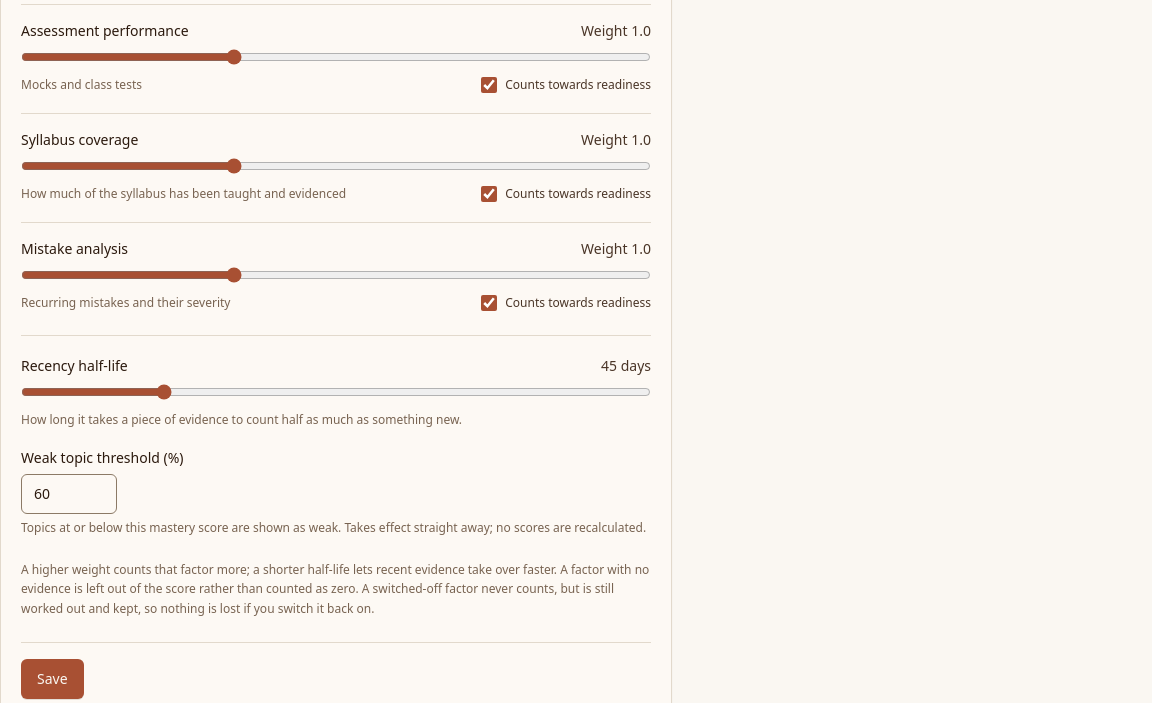
a failed save's message does not follow the tutor to another scope
(page scrolled)
Step 1. Click the button "Save" → (52, 679), box [21, 659, 84, 699]
(page scrolled)
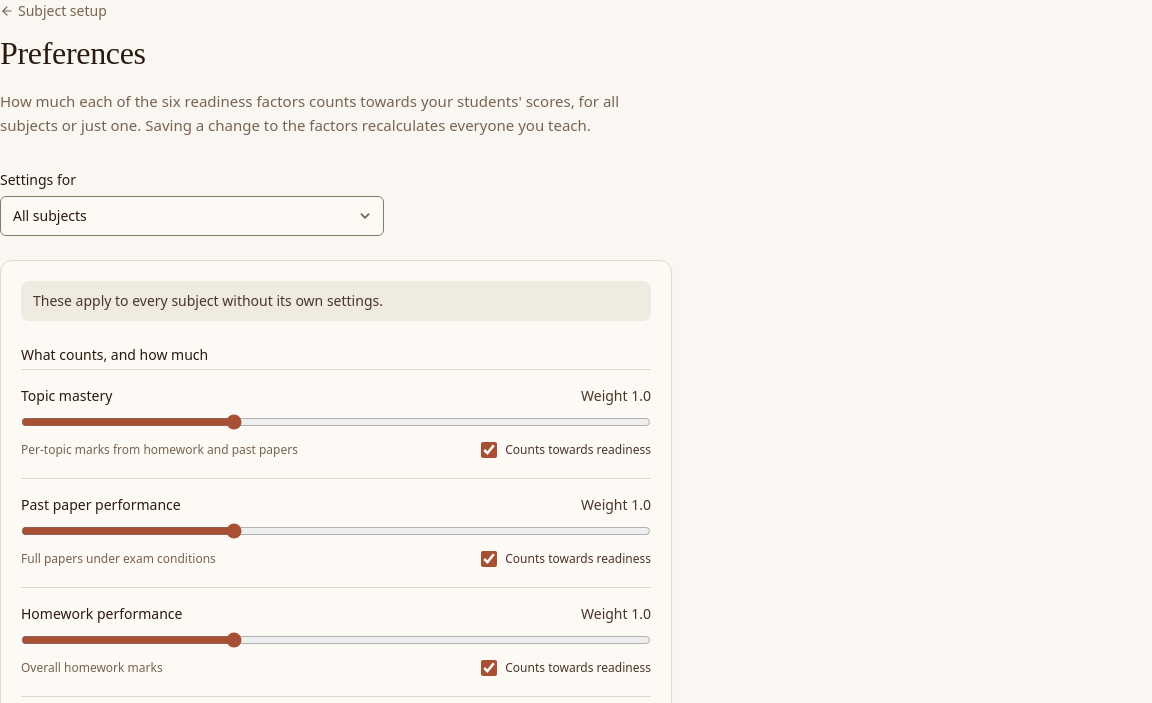
Step 2. Select "Chemistry (Edexcel IGCSE 4CH1)" in the dropdown labelled "Settings for" → (192, 216), box [0, 196, 384, 236]
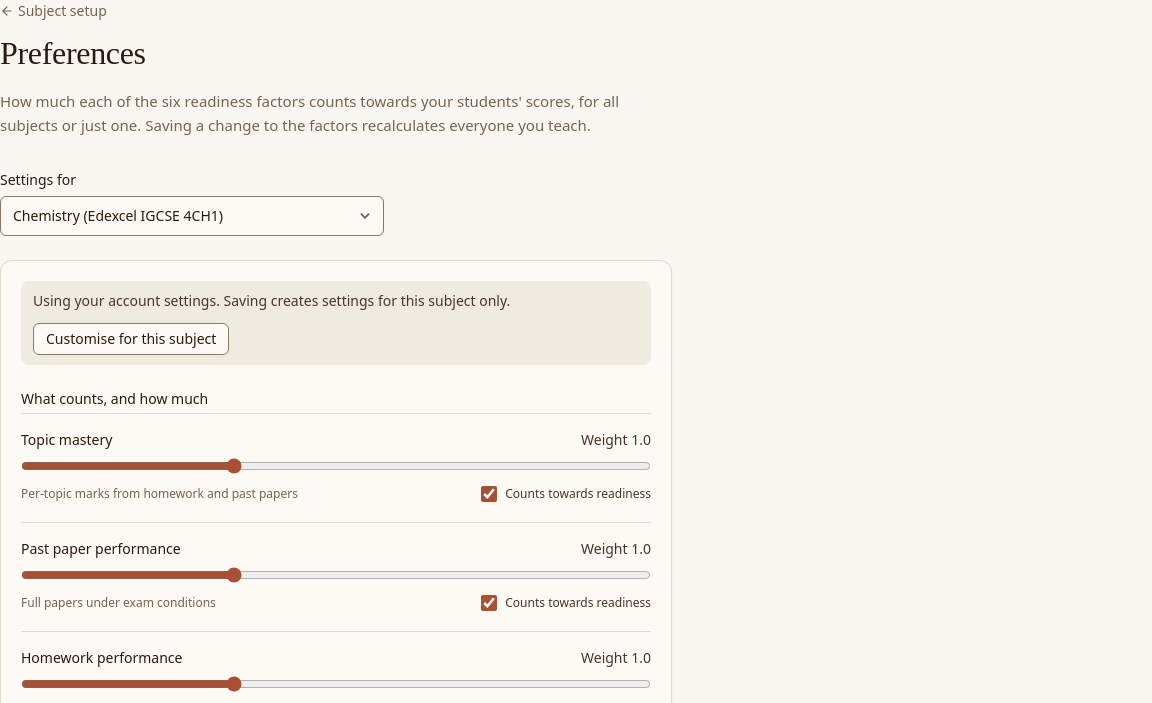
Expected: the text "Using your account settings" is shown, [33, 291, 510, 310]
